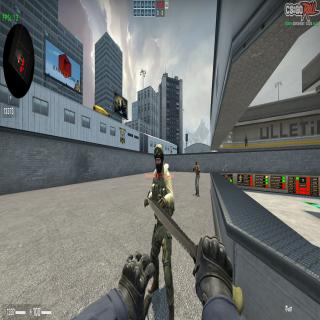CT-Body: (144, 143, 175, 320)
CT-Head: (154, 144, 164, 177)
T-Body: (193, 162, 200, 196)
T-Head: (195, 161, 198, 168)
